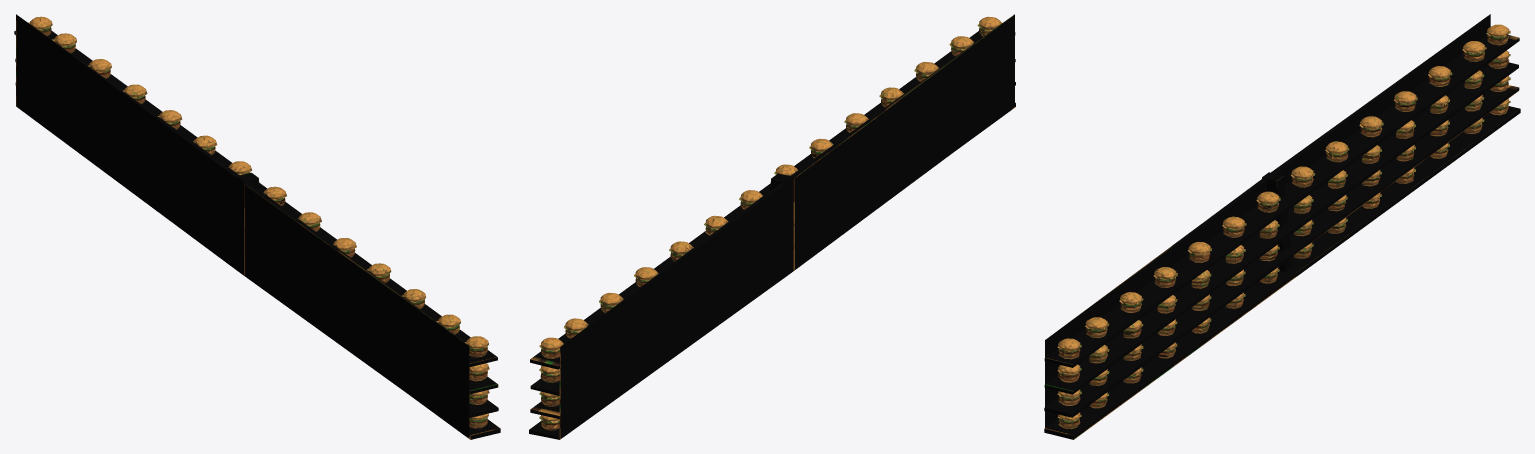
File: EstanteComida 1.fbx
3 views of the same model, side by side, from view 1: azimuth 30°, elevation 25°; view 2: azimuth 150°, elevation 25°; view 3: azimuth 330°, elevation 25° (orthographic). The views are drawn at different scales.
Parts seen in each view (by area): view 1: hamburguesa.002; view 2: hamburguesa.002; view 3: hamburguesa.002.
Part boxes in pixels (x1=…): hamburguesa.002: x1=14, y1=14, x2=500, y2=439; hamburguesa.002: x1=529, y1=14, x2=1015, y2=439; hamburguesa.002: x1=1044, y1=14, x2=1520, y2=439.
Bounding box in the file's own units: 75.74 × 210 × 1826.
1 material, 1 textured.
